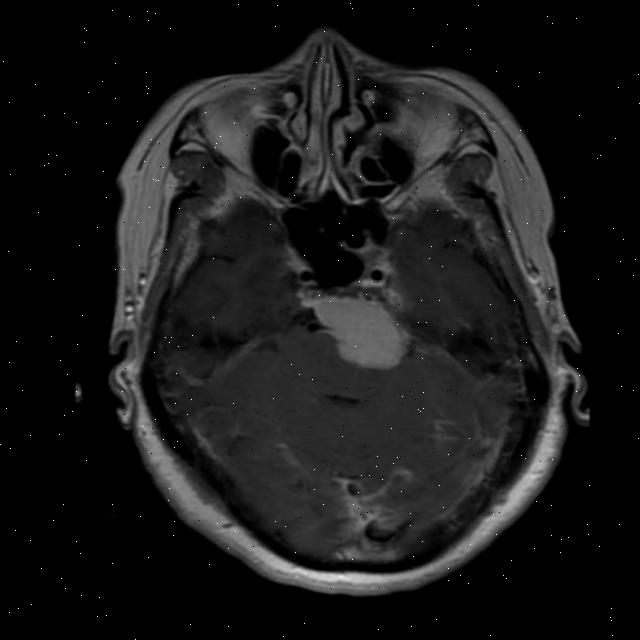Meningioma: (308, 294, 415, 374)
